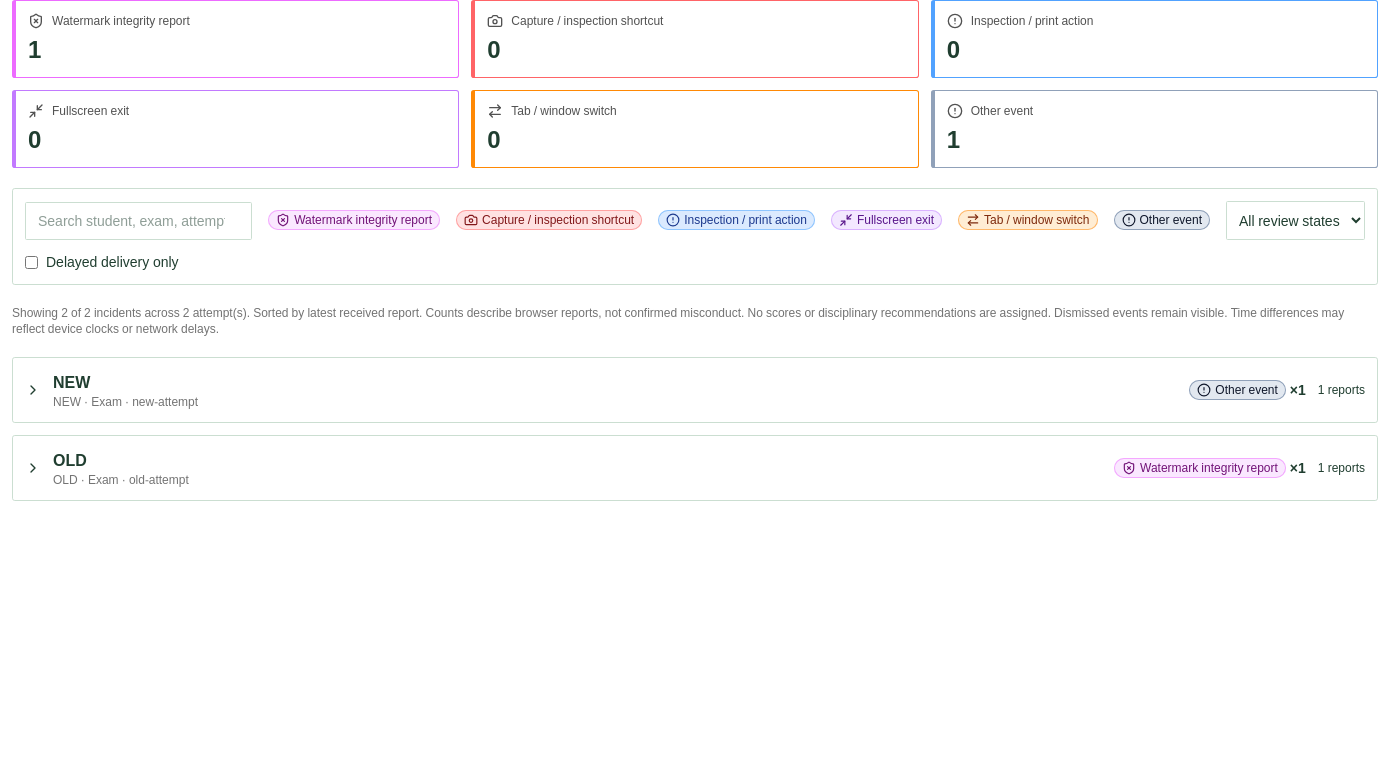
orders attempts by receipt time rather than event severity and retains dismissed evidence
Expected: the button that starts with "OLD" is shown, [13,436,1377,500]
Click the button "NEW NEW · Exam · new-attempt Other event ×1 1 reports": {"x": 72, "y": 382} [13,358,1377,422]
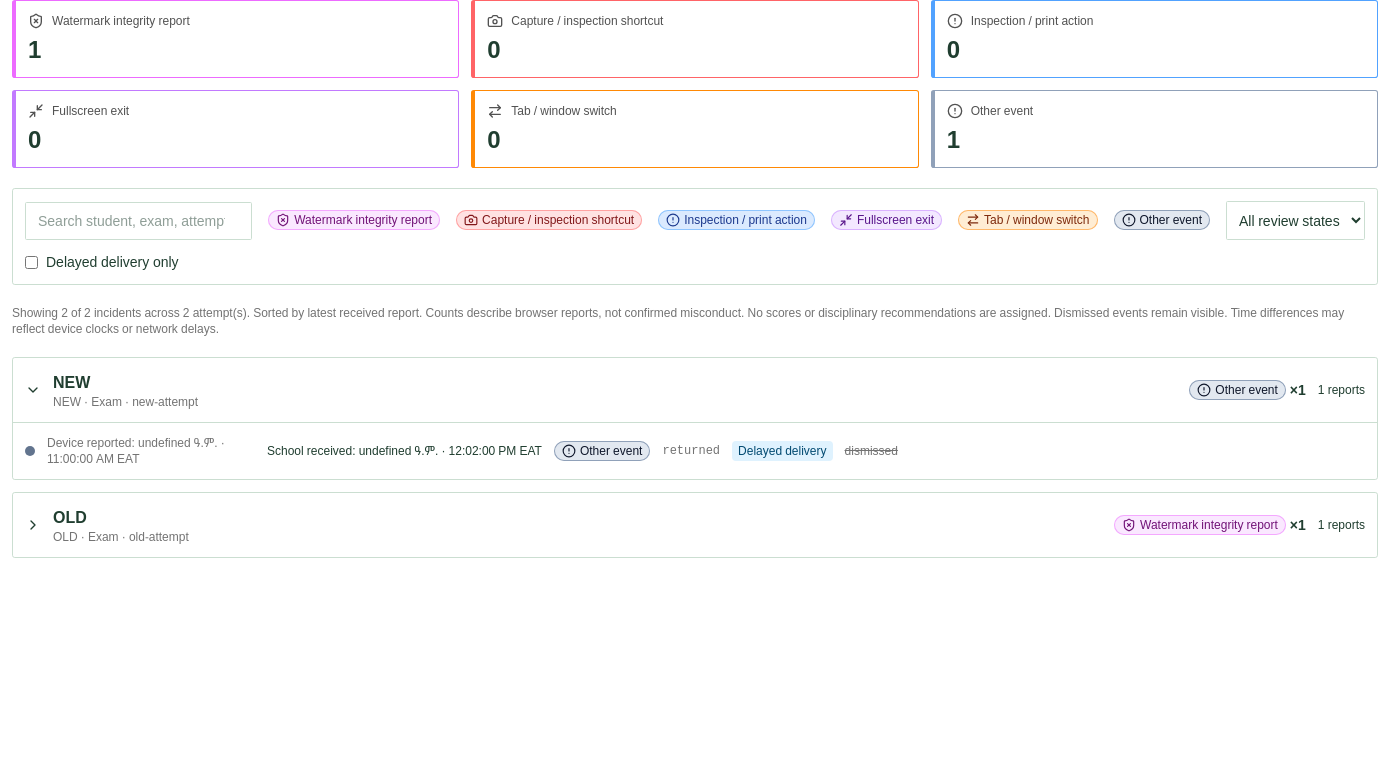
Expected: the text "dismissed" is shown, [844,443,898,459]
Expected: the text "School received: undefined ዓ.ም. · 12:02:00 PM EAT" is shown, [267,443,542,459]
